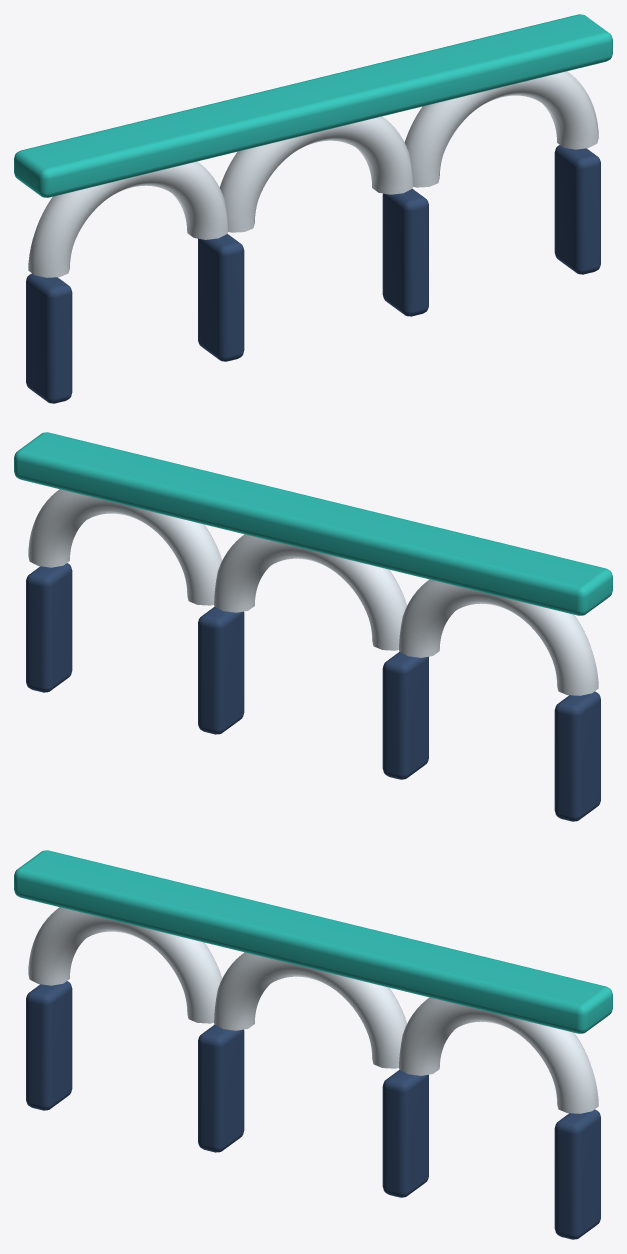
Rendered from aqueduct-quality.glb.
3 views of the same model, one above another, from view 1: azimuth 30°, elevation 25°; view 2: azimuth 150°, elevation 25°; view 3: azimuth 330°, elevation 25° (orthographic).
Visible parts, largest first — view 1: Arch; view 2: Arch; view 3: Arch.
Part boxes in pixels (x1,y1,x2,y2): Arch: (14, 14, 612, 403); Arch: (14, 432, 612, 821); Arch: (14, 850, 612, 1239).
Bounding box in the file's own units: 3.1 × 1.24 × 0.3.
